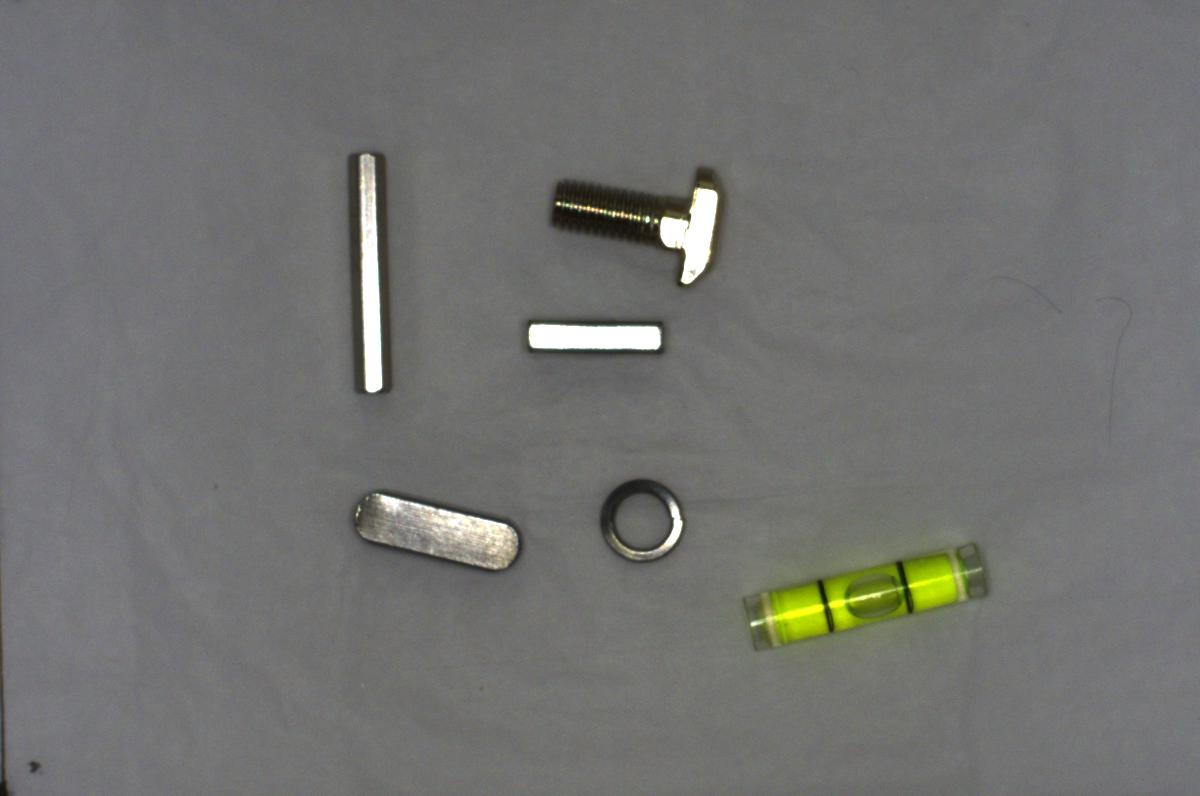Double hexagonal column: (335, 142, 394, 402)
Horizontal bubble: (733, 539, 995, 655)
Keybar: (344, 485, 524, 578)
Rectangular nut: (515, 308, 668, 365)
Spring washer: (593, 474, 693, 572)
T-shaped screw: (547, 161, 738, 295)
